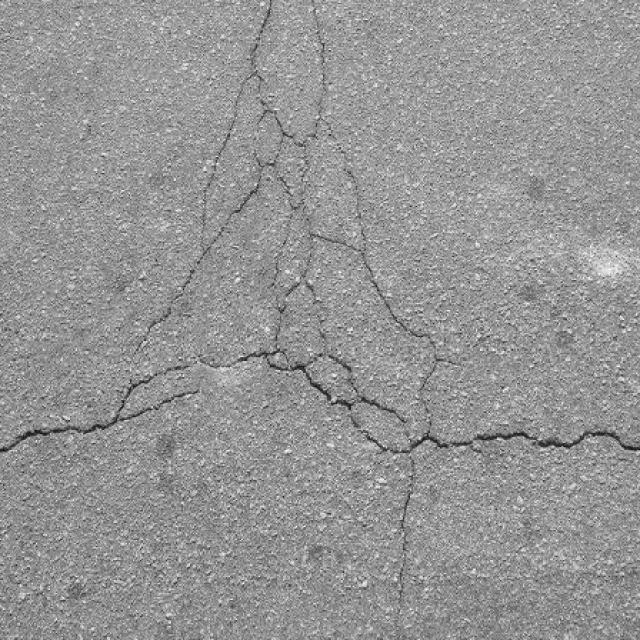Crack: (5, 292, 640, 614), (120, 38, 312, 419), (151, 40, 342, 349), (242, 4, 366, 244), (310, 234, 379, 291)
